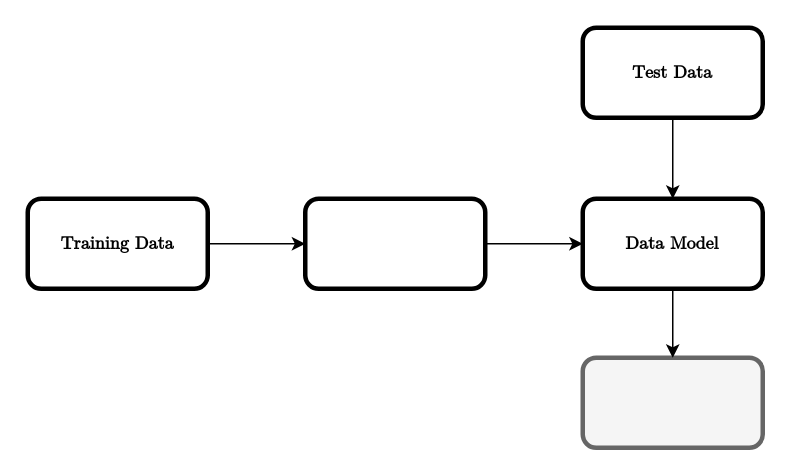
This 791x476 diagram has some shape labels left out. Here are the shapes that lost their labels. From the top down, the box of each, then its label:
(302, 196, 487, 290): ML Algorithm
(580, 355, 764, 449): Predicted Classification
